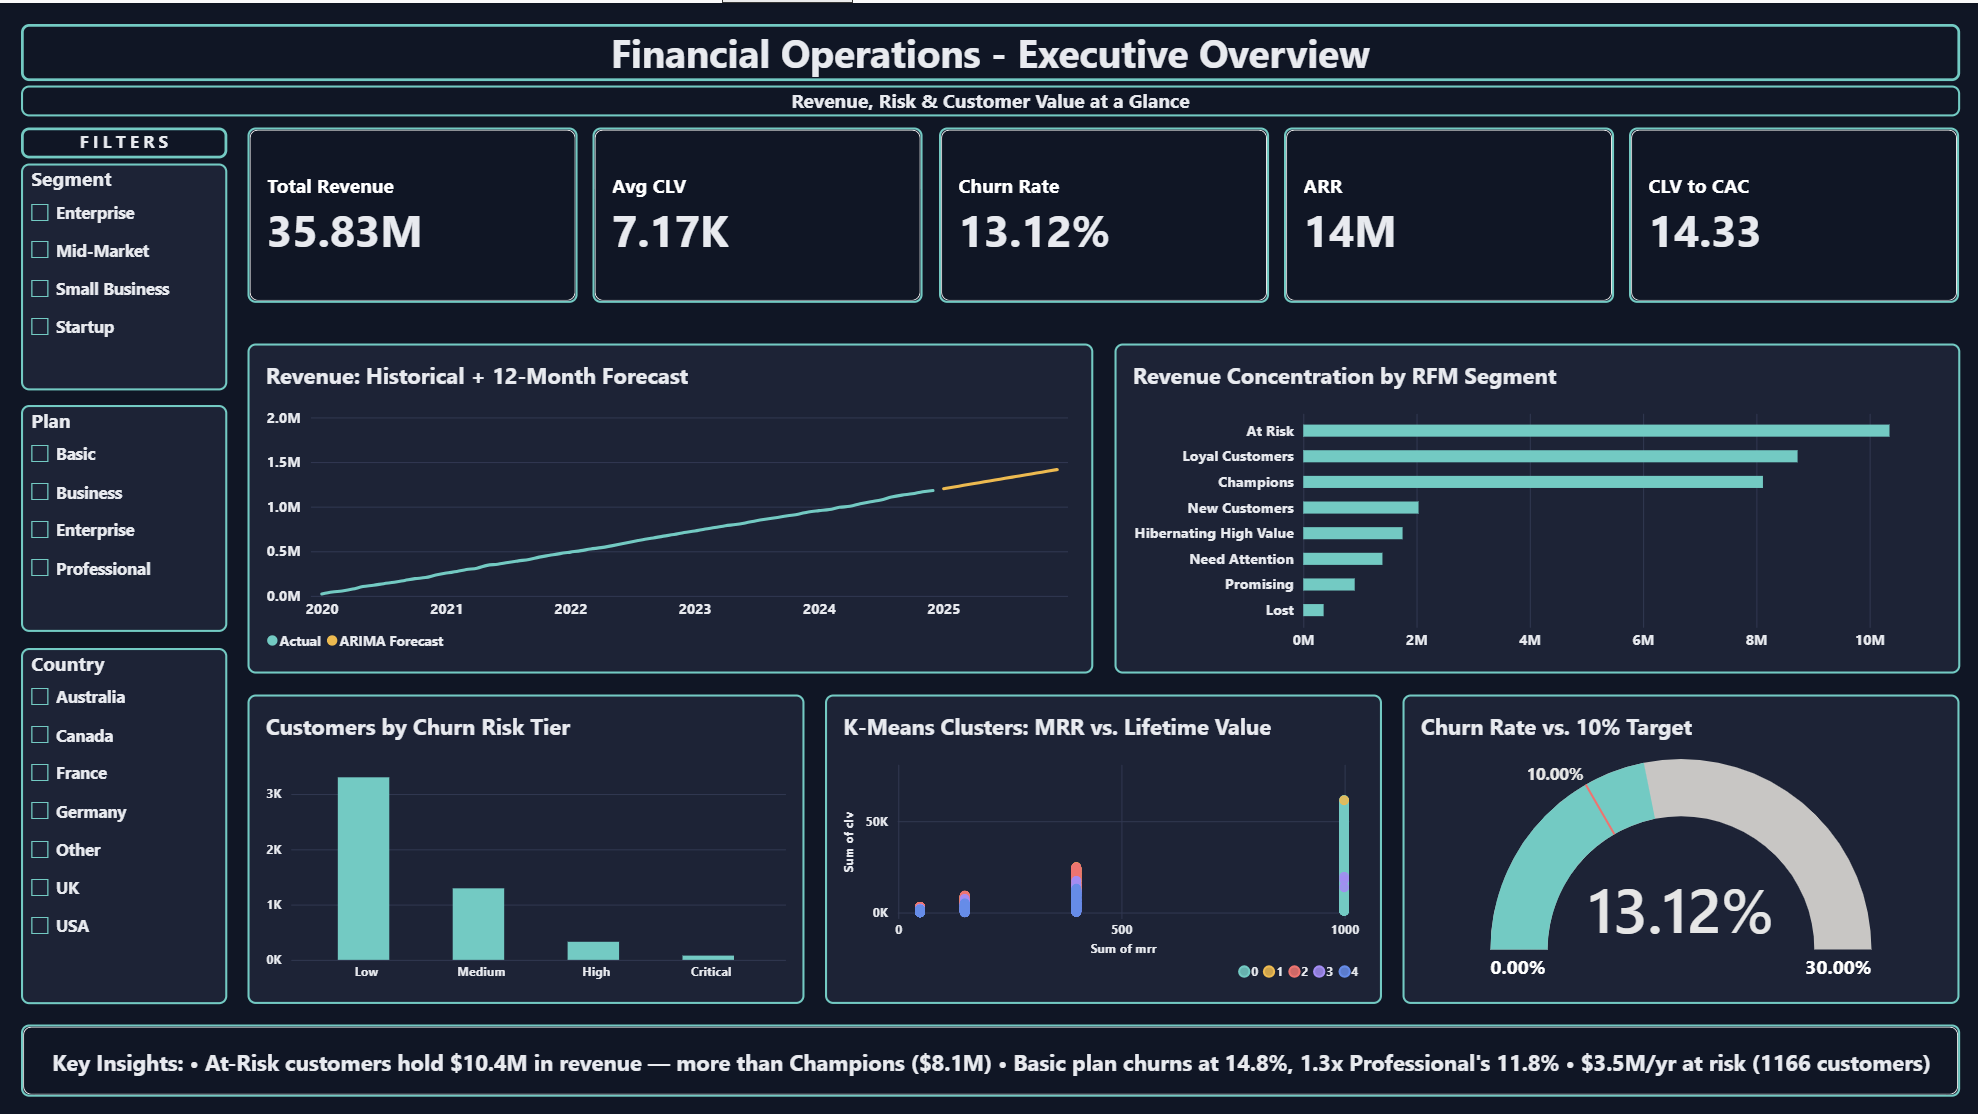

The dashboard page shown, as its layout file describes it:
{"tool":"powerbi","page":{"name":"Executive Overview","canvas":[1920,1080],"ordinal":0},"visuals":[{"type":"cardVisual","fields":{"Data":["customers_for_powerbi.Total Revenue"]},"box":[240,120,320,170],"z":0},{"type":"cardVisual","fields":{"Data":["customers_for_powerbi.ARR"]},"box":[1245,120,320,170],"z":1000},{"type":"cardVisual","fields":{"Data":["customers_for_powerbi.Churn Rate"]},"box":[910,120,320,170],"z":2000},{"type":"cardVisual","fields":{"Data":["customers_for_powerbi.Avg CLV"]},"box":[575,120,320,170],"z":3000},{"type":"cardVisual","fields":{"Data":["customers_for_powerbi.CLV to CAC"]},"box":[1580,120,320,170],"z":4000},{"type":"lineChart","title":"Revenue: Historical + 12-Month Forecast","fields":{"Category":["RevenueTimeline.Month"],"Y":["Sum(RevenueTimeline.Value)"],"Series":["RevenueTimeline.Series"]},"box":[240,330,820,320],"z":5000},{"type":"clusteredColumnChart","title":"Customers by Churn Risk Tier","fields":{"Category":["customers_for_powerbi.churn_risk_tier"],"Y":["CountNonNull(customers_for_powerbi.customer_id)"]},"box":[240.2,670.6,540,300.3],"z":6000},{"type":"clusteredBarChart","title":"Revenue Concentration by RFM Segment","fields":{"Category":["rfm_segmentation.customer_segment"],"Y":["Sum(rfm_segmentation.monetary)"]},"box":[1080,330,820,320],"z":7000},{"type":"scatterChart","title":"K-Means Clusters: MRR vs. Lifetime Value","fields":{"X":["Sum(customers_for_powerbi.mrr)"],"Y":["Sum(customers_for_powerbi.clv)"],"Series":["customers_for_powerbi.ml_cluster"],"Category":["rfm_segmentation.customer_id"]},"box":[800,670,540,300],"z":8000},{"type":"slicer","fields":{"Values":["customers_for_powerbi.segment"]},"box":[20,155,200,220],"z":9000},{"type":"slicer","fields":{"Values":["customers_for_powerbi.plan"]},"box":[20.5,390,200,220],"z":10000},{"type":"cardVisual","fields":{"Data":["customers_for_powerbi.KeyInsightsText"]},"box":[20,990,1880,70],"z":11000},{"type":"textbox","box":[20,20,1880,55],"z":12000},{"type":"textbox","box":[20,80,1880,30],"z":13000},{"type":"textbox","box":[20,120,200,30],"z":14000},{"type":"gauge","title":"Churn Rate vs. 10% Target","fields":{"Y":["customers_for_powerbi.Churn Rate"],"TargetValue":["customers_for_powerbi.ChurnTarget"],"MaxValue":["customers_for_powerbi.ChurnGaugeMax"]},"box":[1360,670,540,300],"z":15000},{"type":"slicer","fields":{"Values":["customers_for_powerbi.country"]},"box":[20,625,200,345],"z":16000}]}

Visuals, with their boxes in screenshot pixels (x1, y1, x2, y2), scaled from the page's 1920x1080 canvas onto the 1978x1114 screenshot:
cardVisual - customers_for_powerbi.Total Revenue: box(247, 124, 577, 299)
cardVisual - customers_for_powerbi.ARR: box(1283, 124, 1612, 299)
cardVisual - customers_for_powerbi.Churn Rate: box(937, 124, 1267, 299)
cardVisual - customers_for_powerbi.Avg CLV: box(592, 124, 922, 299)
cardVisual - customers_for_powerbi.CLV to CAC: box(1628, 124, 1957, 299)
"Revenue: Historical + 12-Month Forecast" lineChart: box(247, 340, 1092, 670)
"Customers by Churn Risk Tier" clusteredColumnChart: box(247, 692, 804, 1001)
"Revenue Concentration by RFM Segment" clusteredBarChart: box(1113, 340, 1957, 670)
"K-Means Clusters: MRR vs. Lifetime Value" scatterChart: box(824, 691, 1380, 1001)
slicer - customers_for_powerbi.segment: box(21, 160, 227, 387)
slicer - customers_for_powerbi.plan: box(21, 402, 227, 629)
cardVisual - customers_for_powerbi.KeyInsightsText: box(21, 1021, 1957, 1093)
textbox: box(21, 21, 1957, 77)
textbox: box(21, 83, 1957, 113)
textbox: box(21, 124, 227, 155)
"Churn Rate vs. 10% Target" gauge: box(1401, 691, 1957, 1001)
slicer - customers_for_powerbi.country: box(21, 645, 227, 1001)
